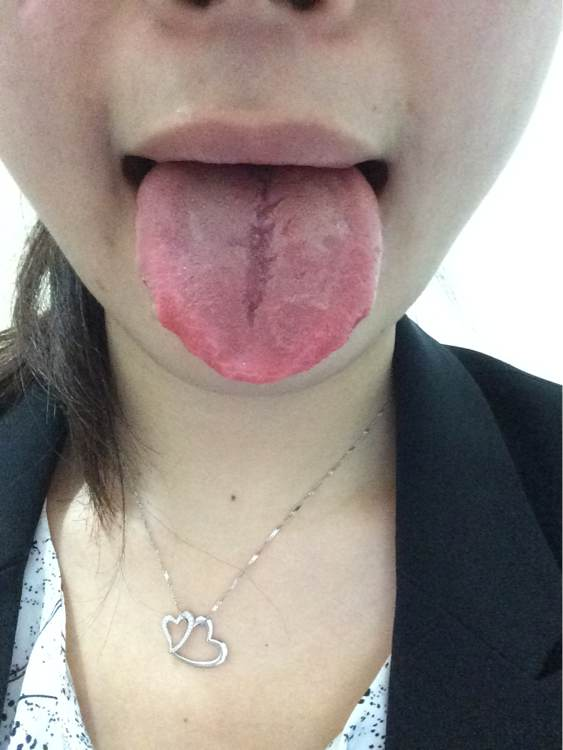baitaishe: (136, 158, 382, 384)
chihenshe: (141, 274, 218, 371)
hongshe: (136, 158, 382, 384)
liewenshe: (233, 168, 280, 327)
